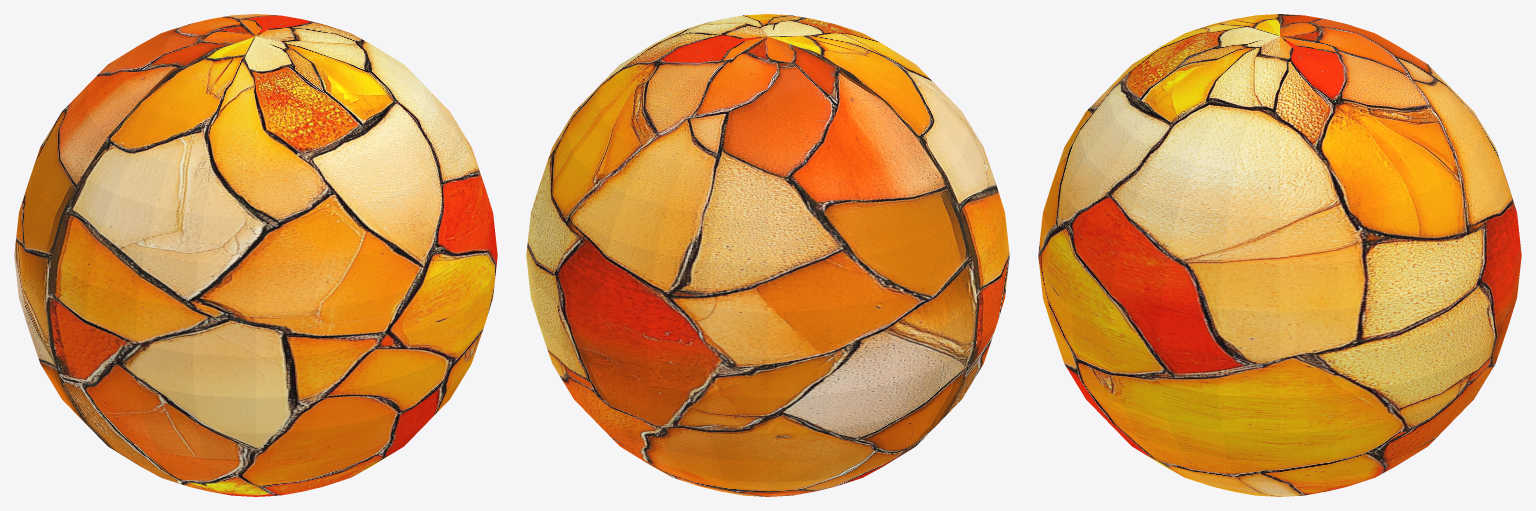
File: starOrangeEmissiveTest.glb
The picture shows the model from 3 angles, left to right: view 1: azimuth 30°, elevation 25°; view 2: azimuth 150°, elevation 25°; view 3: azimuth 270°, elevation 25°; orthographic projection.
Visible parts, largest first — view 1: starRef; view 2: starRef; view 3: starRef.
Part boxes in pixels (bbox=[...]): starRef: bbox=[14, 14, 497, 496]; starRef: bbox=[526, 14, 1009, 496]; starRef: bbox=[1038, 14, 1521, 496].
Size of the model in its own units: 1 by 1 by 1.
1 material, 1 textured.
